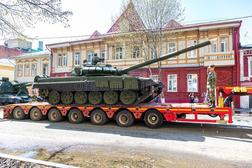t72: (33, 40, 198, 101)
